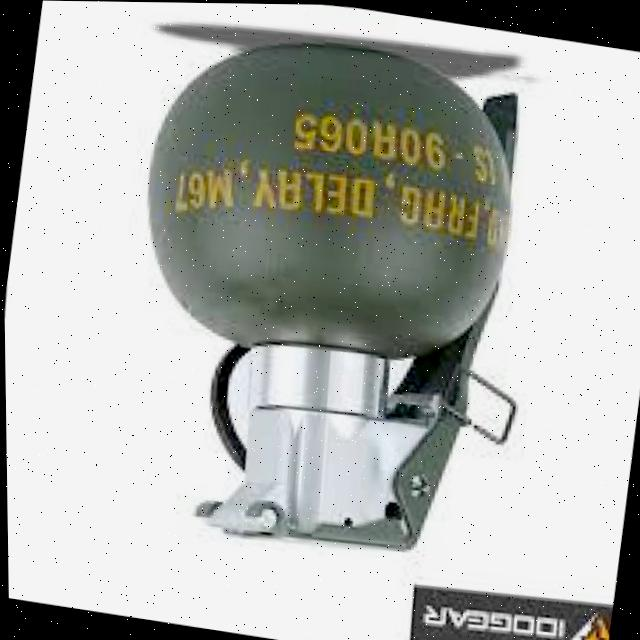grenade: (82, 2, 575, 598)
